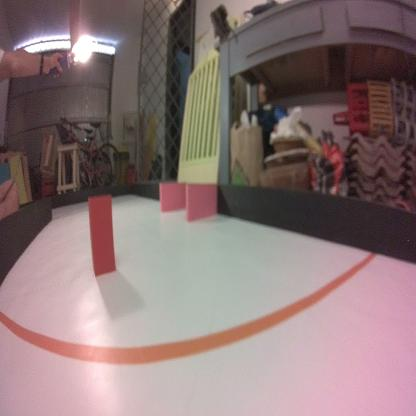magenta: (184, 179, 219, 219), (158, 181, 188, 212)
red: (86, 192, 118, 277)
